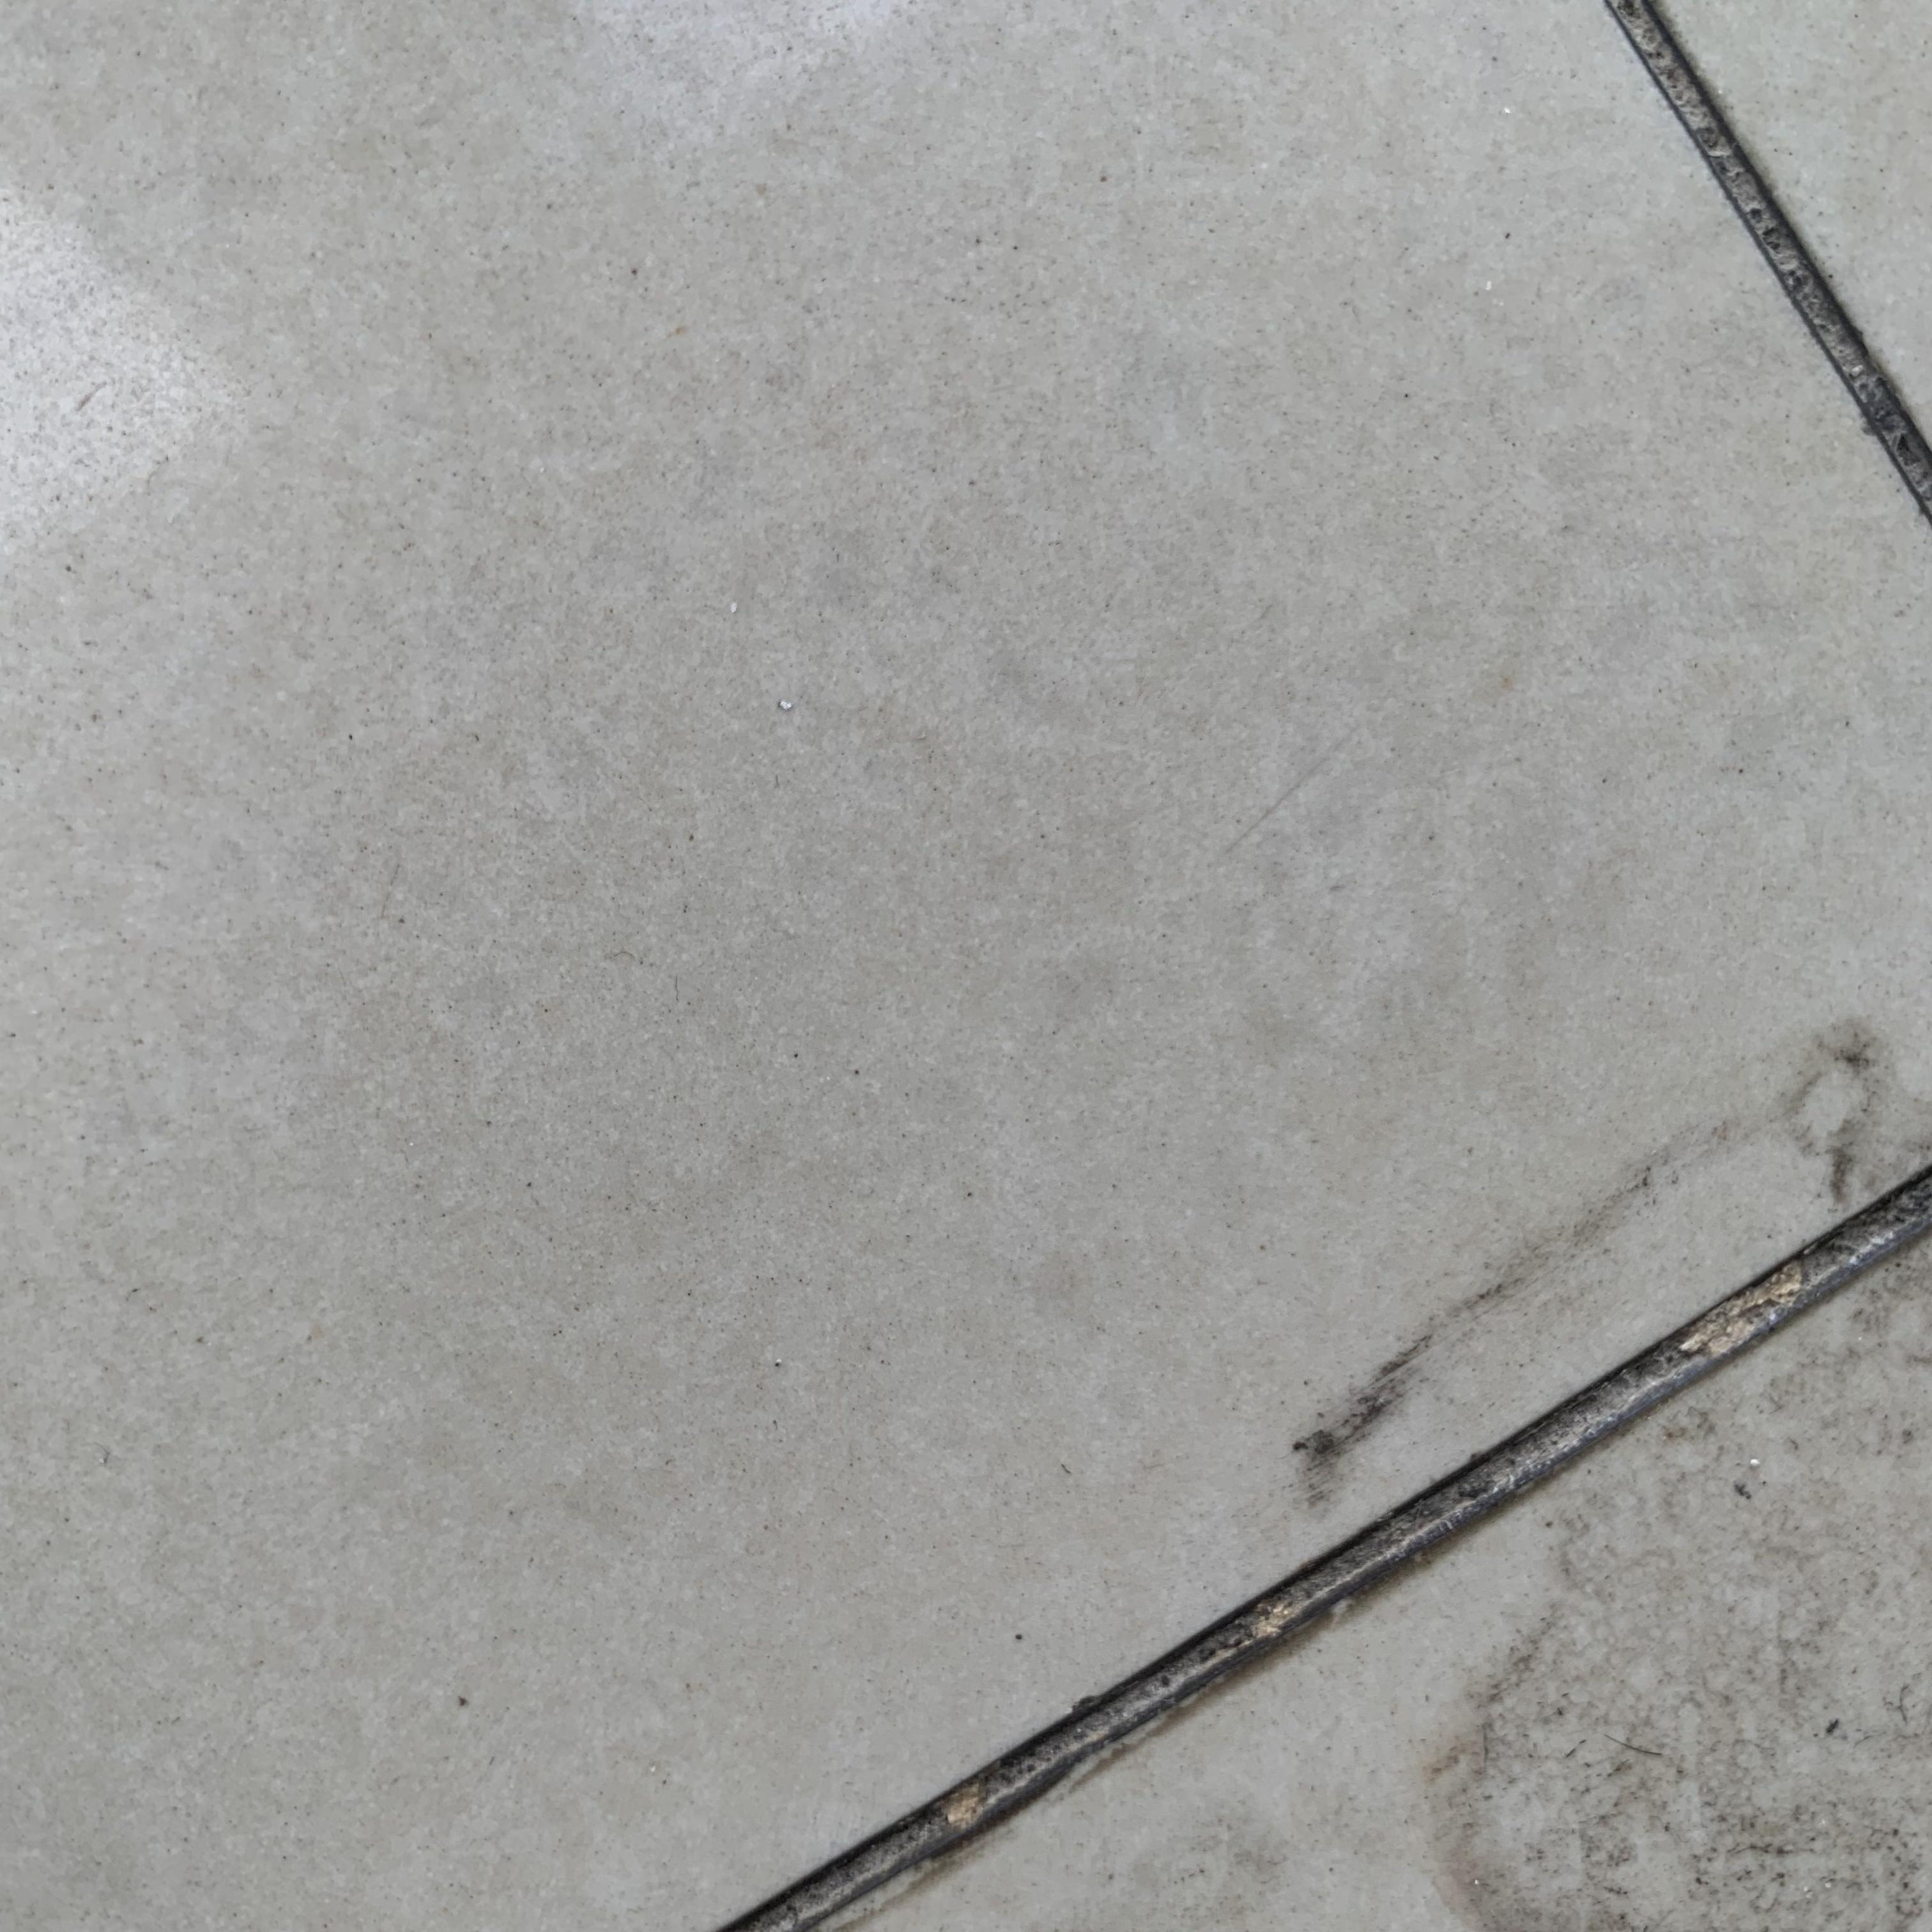grey spot: (1283, 1021, 1932, 1932)
reflection: (4, 184, 248, 568), (527, 2, 911, 165)
